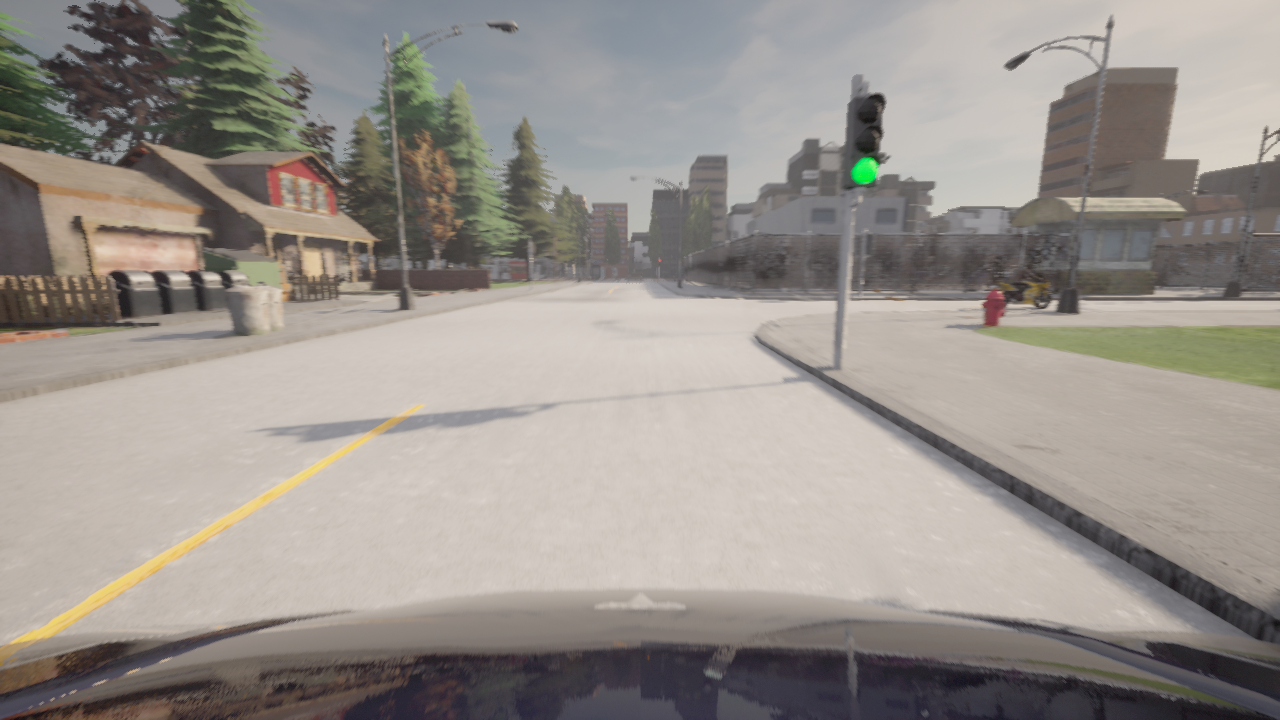cyclist: (0, 588, 1279, 719), (988, 274, 1051, 308), (909, 266, 951, 281), (985, 265, 1018, 284), (923, 271, 962, 282), (962, 270, 993, 283), (938, 270, 962, 283), (1002, 270, 1016, 281)
